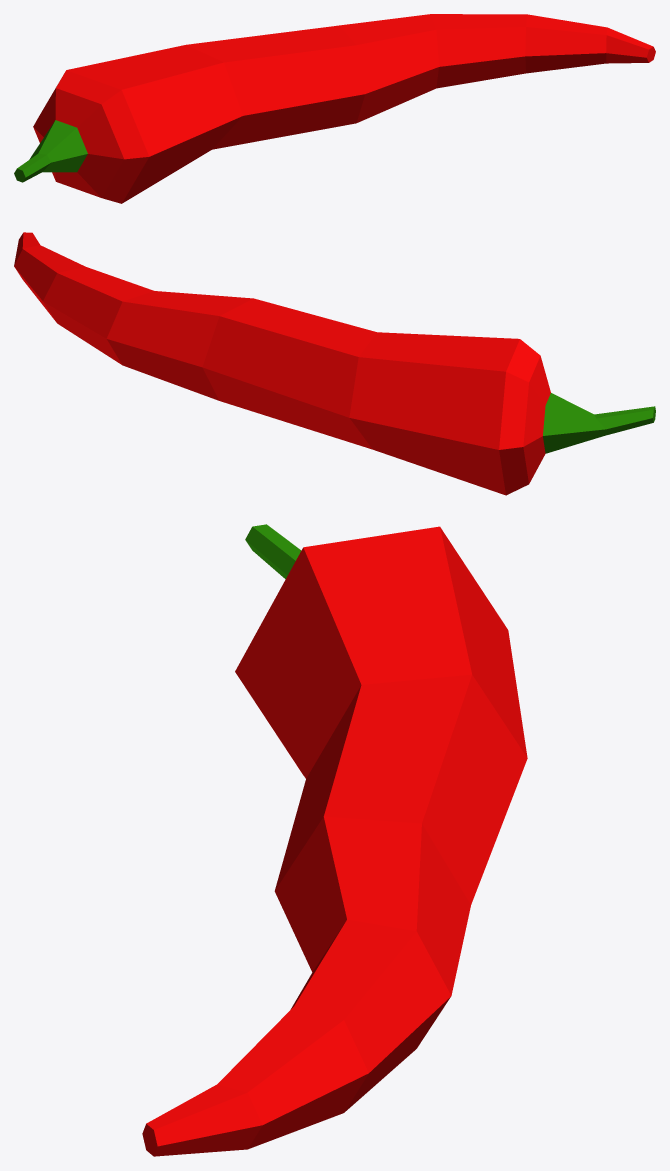
Rendered from pepperchili02.obj.
3 views of the same model, one above another, from view 1: azimuth 30°, elevation 25°; view 2: azimuth 150°, elevation 25°; view 3: azimuth 270°, elevation 25° (orthographic). The views are drawn at different scales.
Visible parts, largest first — view 1: Cylinder; view 2: Cylinder; view 3: Cylinder.
Part boxes in pixels (<box>): Cylinder: <box>14,14,655,203</box>; Cylinder: <box>14,232,655,495</box>; Cylinder: <box>142,524,527,1156</box>.
Bounding box in the file's own units: 0.1203 × 0.0214 × 0.0327.
Materials: 1 (1 with a texture image).
